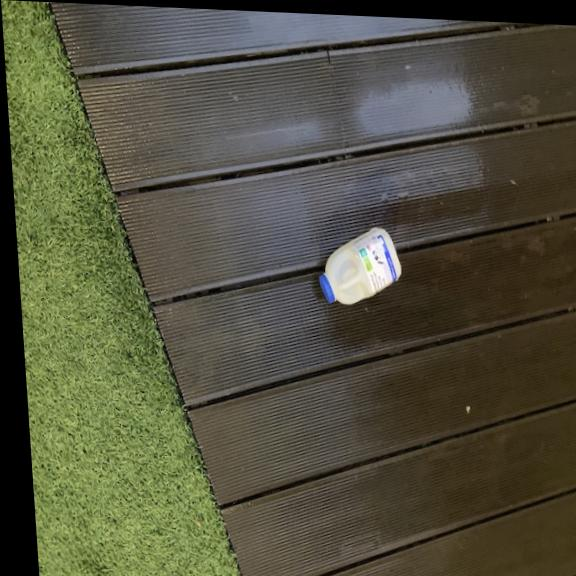Plastik: (312, 221, 405, 313)
